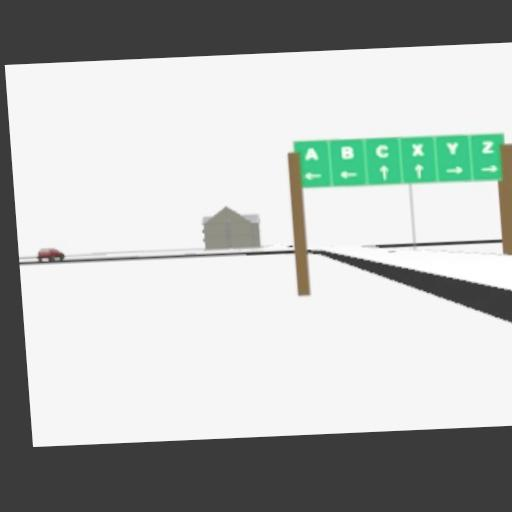A: (303, 146, 320, 163)
B: (340, 145, 355, 161)
C: (375, 142, 390, 159)
Left: (340, 169, 358, 181), (304, 170, 322, 181)
Right: (479, 163, 499, 175), (445, 165, 463, 176)
Straight: (414, 162, 426, 180), (379, 164, 389, 183)
X: (410, 143, 425, 157)
Y: (446, 142, 459, 155)
Z: (481, 139, 496, 155)
